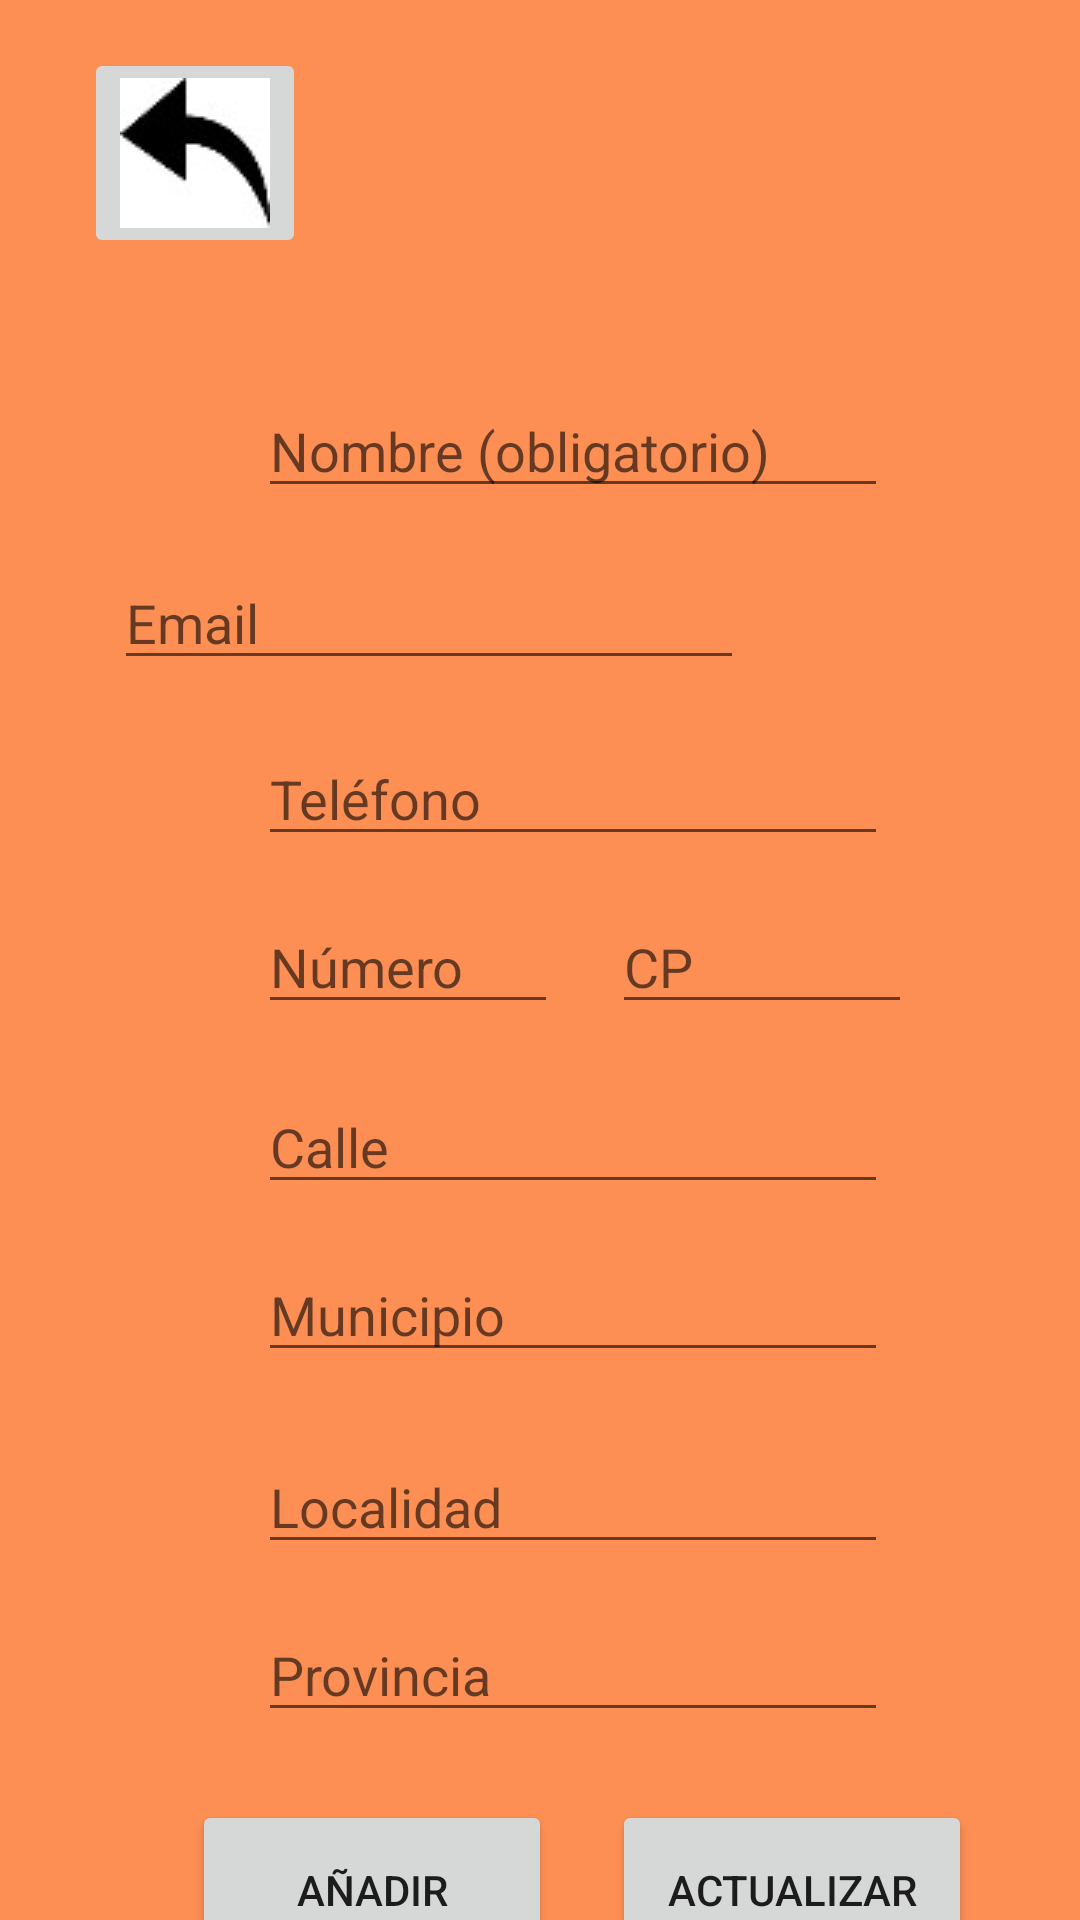

Locate icon controls on the screen. Image size 1080*1920, boxes as (x1, y1, x2, y2).
volver: (96, 66, 294, 240)
